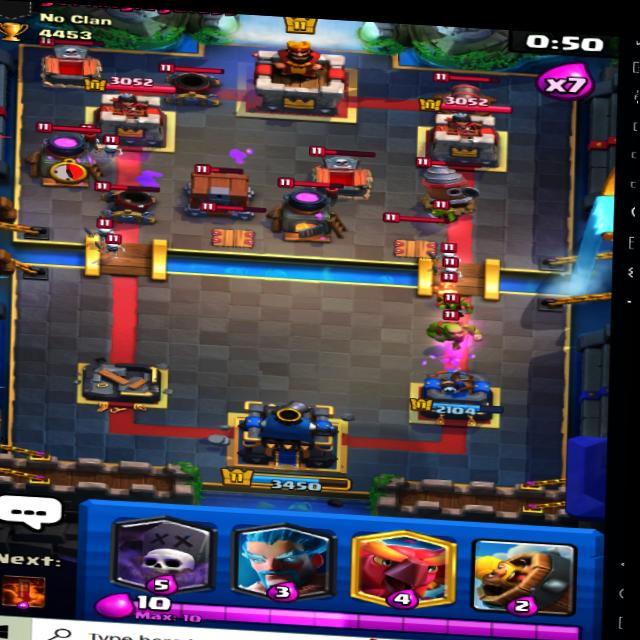brawler: (425, 313, 489, 356)
cannon: (426, 69, 501, 126)
fire-spirit: (428, 273, 460, 302)
furnace: (263, 175, 358, 243), (24, 122, 101, 183)
goblin: (425, 201, 465, 227), (431, 291, 466, 319)
goblin-cage: (169, 161, 264, 223)
goblin-drill: (411, 155, 478, 215)
mortar: (88, 174, 163, 230), (156, 59, 227, 108)
skeleton: (437, 258, 467, 283), (438, 243, 466, 268), (100, 234, 128, 257), (90, 226, 121, 244), (101, 137, 128, 155)
tesla-closed: (199, 199, 273, 251), (382, 211, 453, 263)
tombstone: (38, 36, 117, 92), (306, 143, 380, 197)
